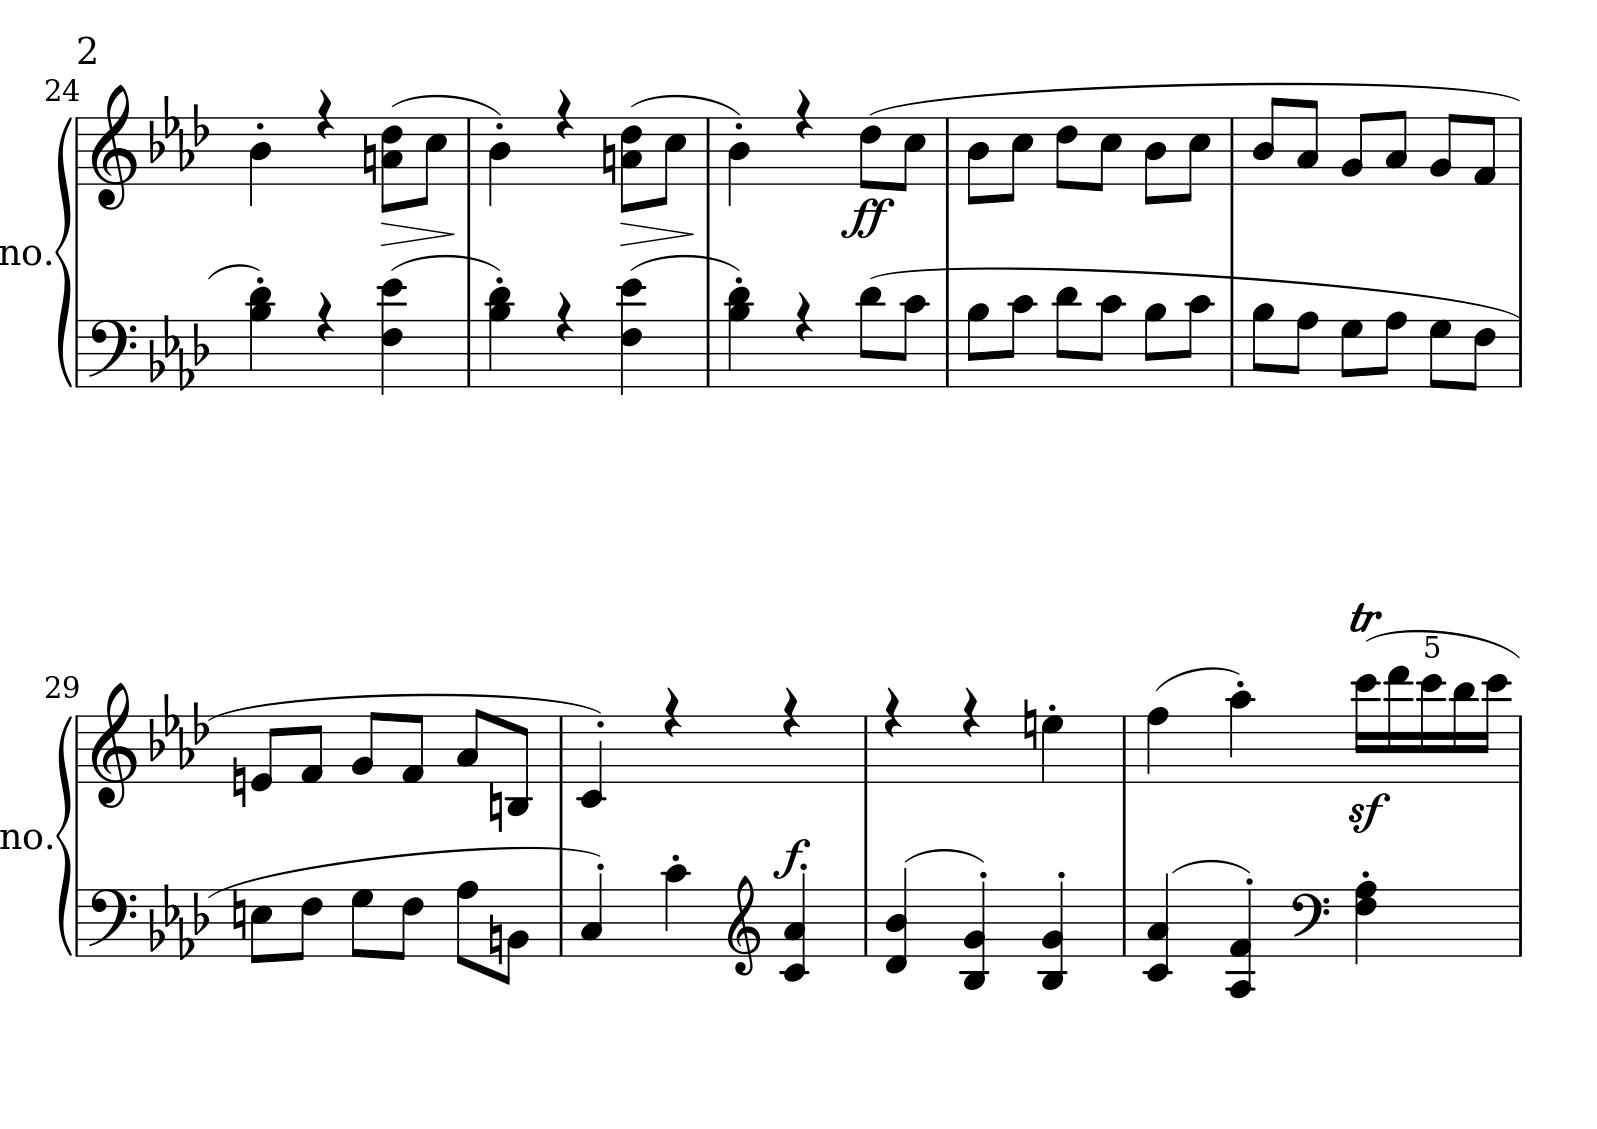16_11: (1450, 681, 1477, 784)
16_12: (1478, 673, 1511, 784), (1351, 673, 1380, 783), (1419, 674, 1445, 784)
16_13: (1384, 663, 1411, 784)
2: (75, 34, 97, 64), (44, 76, 61, 103), (44, 674, 61, 700)
4: (61, 76, 79, 104)
4_-1_4: (883, 866, 910, 975)
4_-2: (577, 714, 605, 808)
4_-2_3: (778, 872, 813, 982), (1141, 874, 1175, 982)
4_-3_2: (960, 881, 990, 991), (1039, 882, 1068, 991)
4_-4_1: (1226, 887, 1257, 997)
4_10: (1227, 689, 1255, 784), (663, 863, 690, 959)
4_3: (580, 872, 604, 958)
4_4: (488, 117, 513, 206), (726, 117, 751, 206), (248, 116, 272, 206)
4_6_12: (615, 277, 644, 397), (378, 277, 406, 397)
4_6_8: (1353, 879, 1378, 964)
4_7: (1039, 714, 1065, 784)
4_8: (1144, 705, 1171, 786)
4_9_11: (723, 285, 755, 389), (484, 285, 514, 389), (246, 283, 274, 389)
5: (1422, 634, 1443, 661)
8_-3: (506, 714, 532, 816)
8_0: (250, 715, 281, 793)
8_1: (400, 712, 426, 784), (299, 714, 325, 786), (1472, 115, 1497, 188)
8_10: (1002, 292, 1037, 389), (894, 293, 930, 389), (1179, 294, 1215, 389), (1091, 293, 1125, 389)
8_11: (1053, 283, 1081, 389), (857, 283, 883, 390)
8_2: (502, 887, 532, 988), (349, 710, 381, 784), (1428, 112, 1460, 186), (1340, 111, 1370, 186)
8_3: (455, 707, 485, 784), (1295, 99, 1320, 187), (1384, 109, 1408, 187)
8_3_6: (619, 116, 645, 216), (380, 116, 404, 216)
8_4: (1252, 97, 1283, 186), (967, 116, 991, 206), (1142, 117, 1167, 206)
8_5: (415, 115, 447, 208), (655, 116, 687, 208), (1002, 115, 1034, 204), (1179, 115, 1211, 204), (894, 116, 926, 193), (1091, 116, 1122, 193), (249, 888, 272, 965)
8_6: (291, 887, 324, 962), (393, 887, 425, 962), (1466, 319, 1497, 393), (857, 115, 882, 191), (1054, 115, 1079, 191)
8_7: (1428, 318, 1453, 391), (349, 886, 374, 959), (1339, 318, 1364, 389)
8_8: (1373, 310, 1408, 389), (1285, 310, 1318, 389), (455, 879, 478, 970)
8_9: (964, 302, 991, 389), (1142, 302, 1168, 389), (1250, 302, 1274, 389)
9: (61, 672, 79, 699)
A_F: (148, 94, 209, 174), (147, 312, 208, 390), (148, 881, 209, 959), (148, 692, 209, 769)
Brace: (54, 115, 73, 389), (55, 714, 75, 953)
Diminuendo_hairpin: (379, 220, 455, 247), (619, 220, 693, 246)
Fclef: (86, 886, 136, 958), (87, 316, 136, 389), (1290, 887, 1329, 958)
Gclef: (89, 682, 137, 808), (90, 84, 137, 210), (726, 874, 762, 977)
Natural: (600, 133, 618, 187), (360, 133, 378, 187), (1021, 698, 1039, 751), (488, 780, 503, 835), (231, 755, 247, 809), (231, 888, 247, 942), (488, 913, 503, 964)
Rests4: (780, 684, 803, 740), (554, 290, 576, 345), (882, 685, 904, 740), (554, 87, 574, 142), (793, 87, 814, 142), (794, 290, 815, 345), (960, 685, 981, 739), (315, 290, 335, 345), (663, 685, 683, 739), (316, 88, 335, 141)
Single_barline: (1116, 888, 1134, 955), (938, 117, 956, 185), (938, 319, 956, 386), (461, 119, 478, 185), (700, 119, 717, 185), (1511, 890, 1529, 955), (857, 716, 874, 781), (1513, 714, 1529, 782), (554, 888, 569, 955), (858, 888, 874, 955), (554, 716, 569, 782), (1226, 318, 1240, 386), (71, 117, 86, 185), (462, 319, 477, 386), (1117, 715, 1131, 782), (1514, 116, 1527, 185), (1226, 117, 1239, 185), (703, 319, 716, 386), (71, 715, 84, 782), (72, 890, 86, 954), (72, 319, 84, 386), (1513, 332, 1527, 387)
Slur: (1365, 629, 1521, 660), (1153, 665, 1241, 692), (632, 93, 740, 114), (393, 93, 501, 114), (395, 254, 501, 272), (634, 254, 740, 272), (905, 847, 984, 865), (1172, 857, 1251, 874), (211, 261, 257, 280)
Trill: (1347, 597, 1382, 632)
f: (772, 837, 813, 879)
ff: (839, 195, 894, 239)
sf: (1347, 792, 1388, 835)
